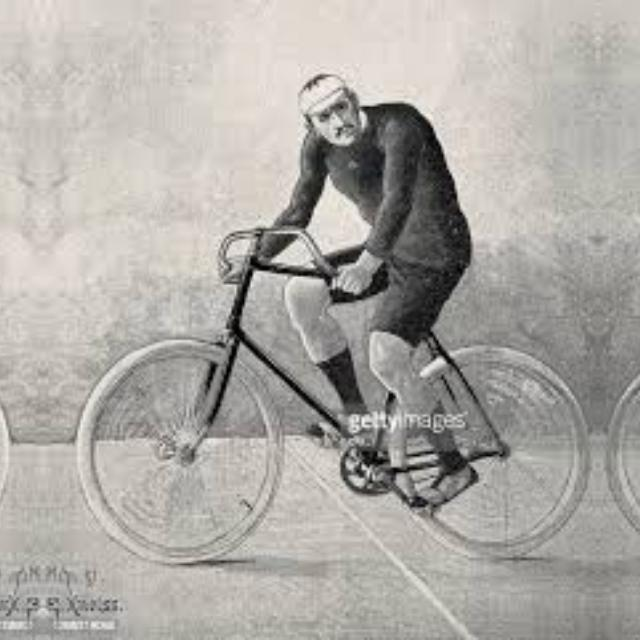obstacle: (93, 230, 592, 580), (602, 230, 640, 579)
